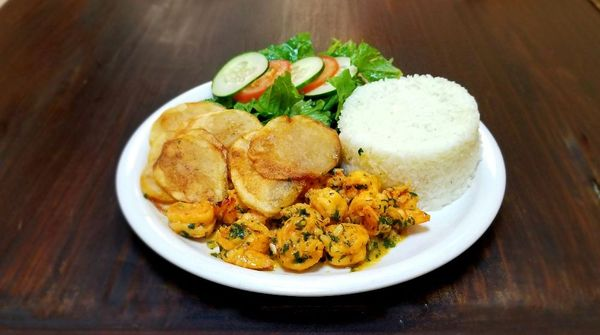curry: (3, 2, 592, 331)
sushi: (337, 74, 484, 209)
